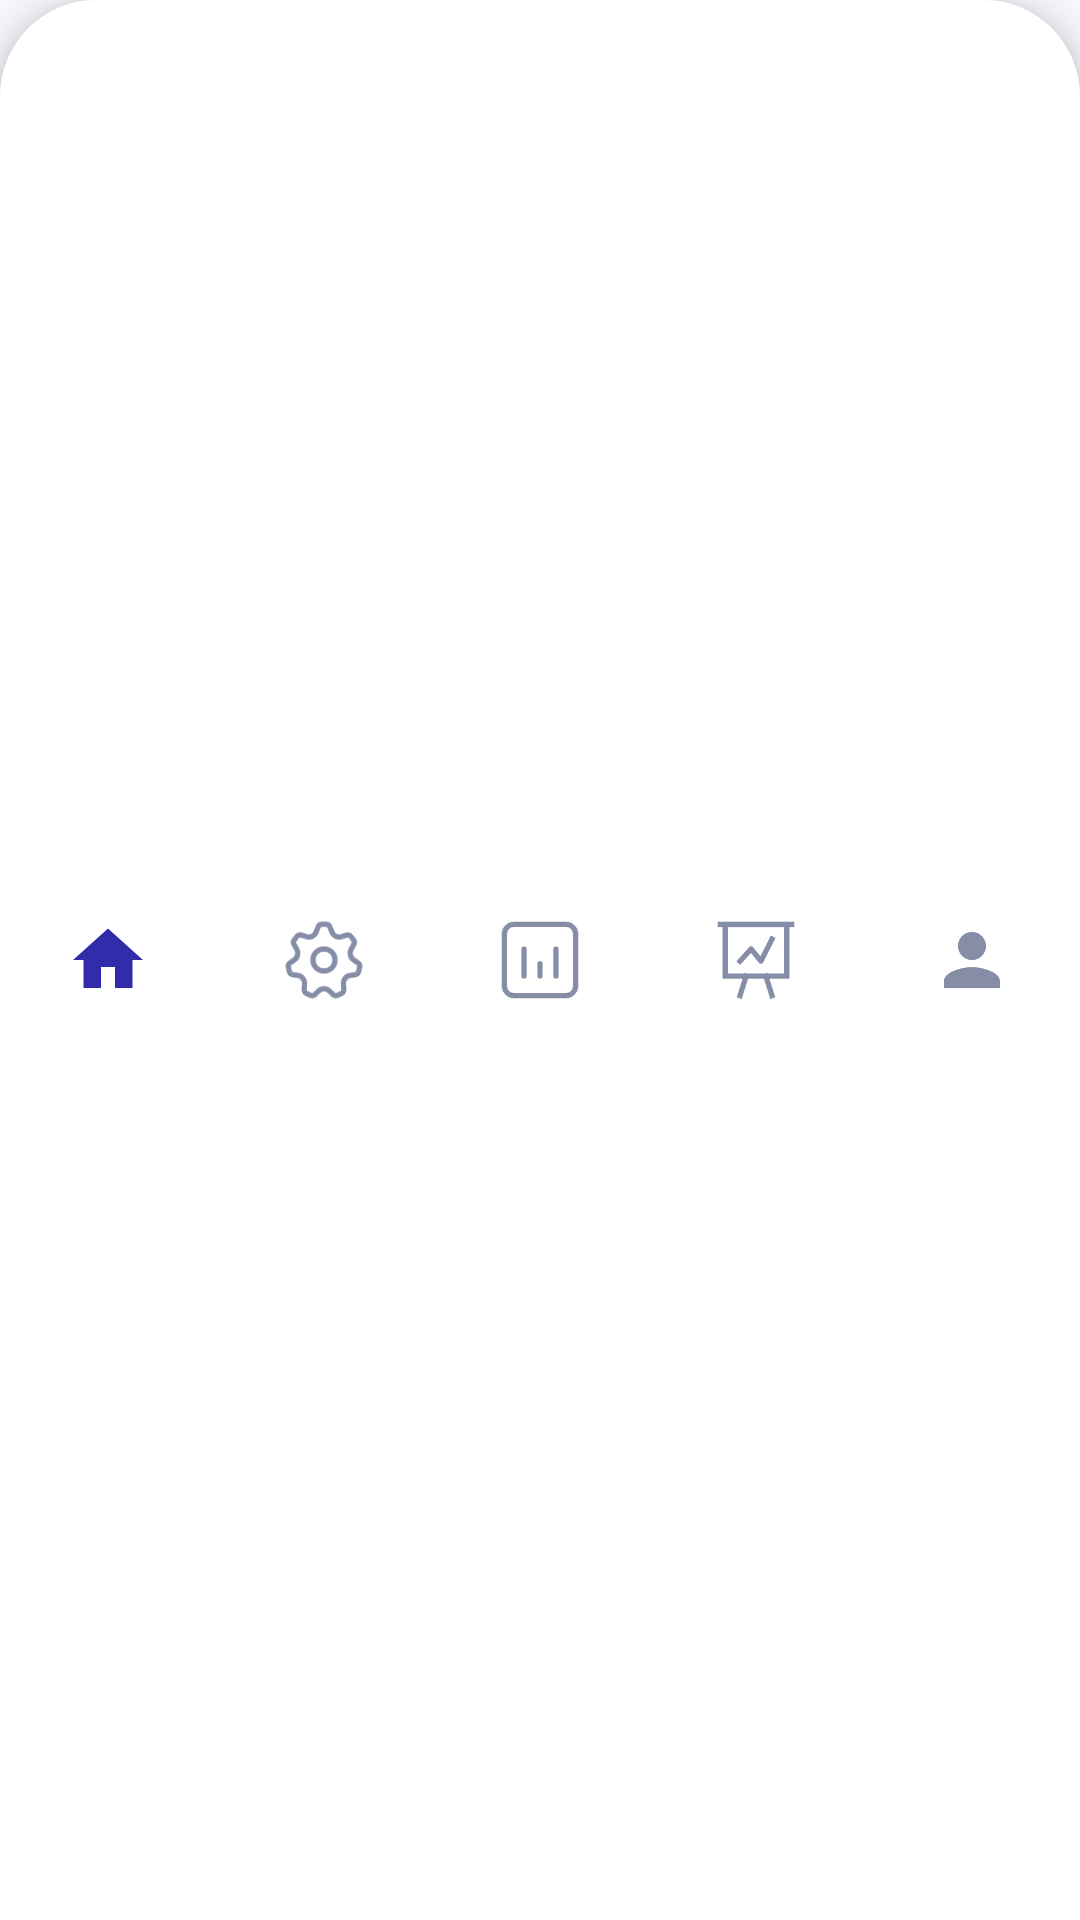

Icons on this 1080 x 1920 Android screen, each with the point to tap as (x=x, y=y):
analytics: (x=540, y=960)
presentation: (x=756, y=960)
settings: (x=324, y=960)
